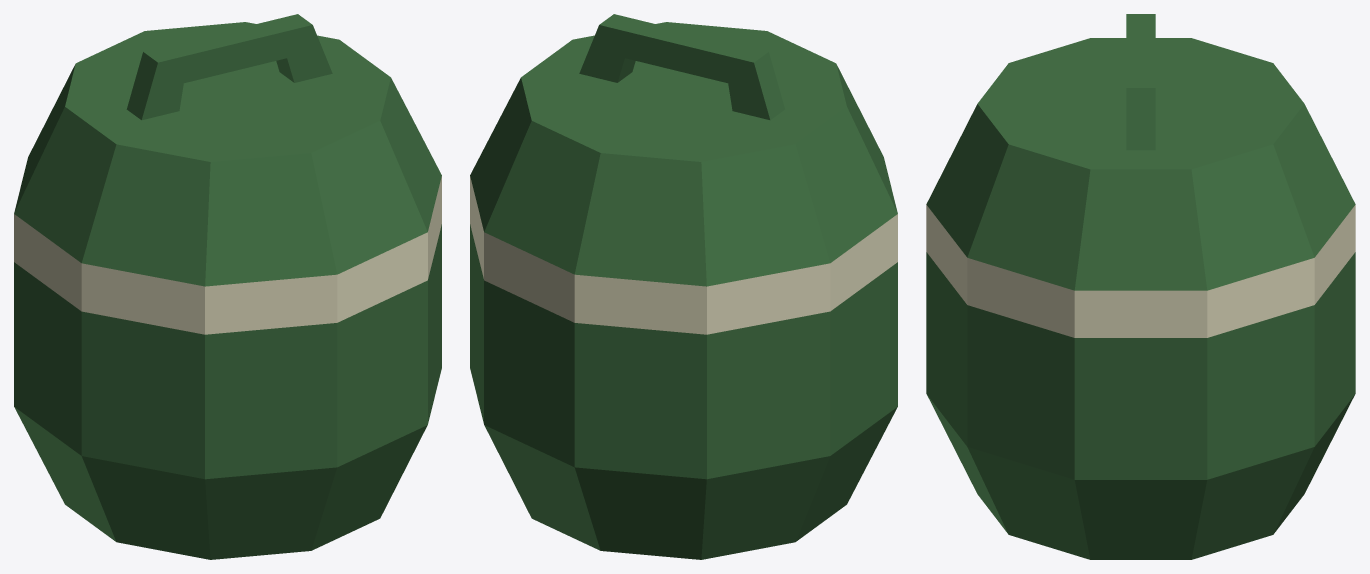
The model's file is Celengan.fbx.
3 renders of one model, left to right at view 1: azimuth 30°, elevation 25°; view 2: azimuth 150°, elevation 25°; view 3: azimuth 270°, elevation 25°, orthographic.
Visible parts, largest first — view 1: Cube.009; view 2: Cube.009; view 3: Cube.009.
Boxes of the visible parts, bbox=[...] form: Cube.009: bbox=[14, 14, 441, 559]; Cube.009: bbox=[470, 14, 897, 559]; Cube.009: bbox=[926, 14, 1355, 559].
Size of the model in its own units: 27.93 by 33.45 by 29.37.
